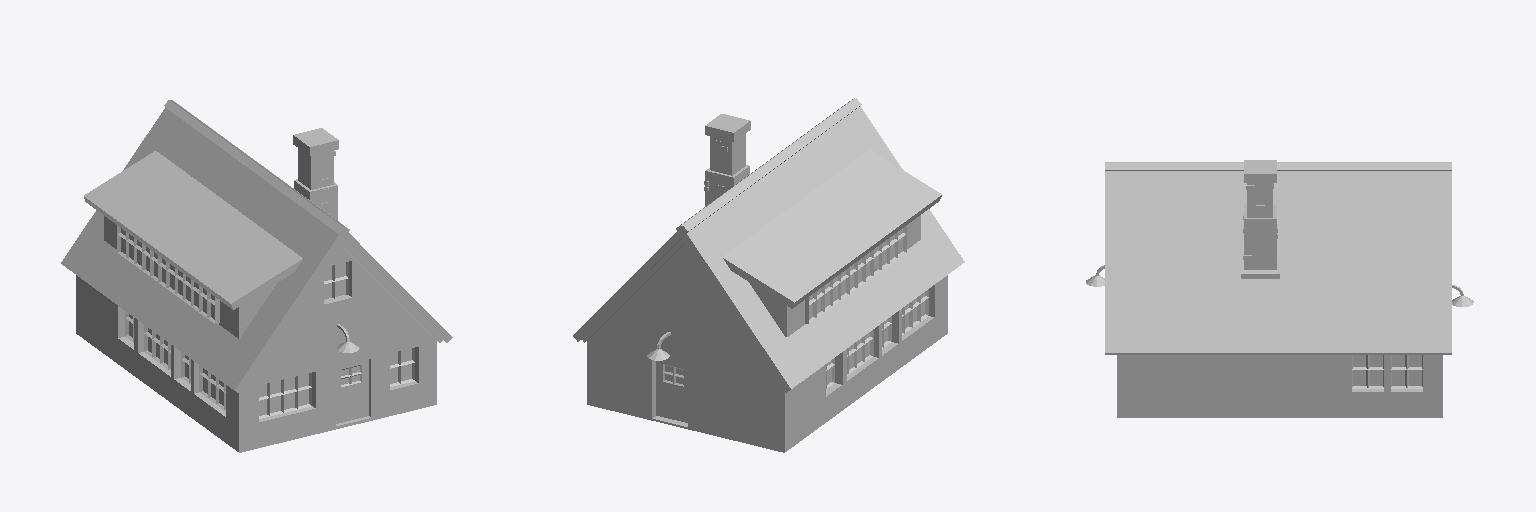
File: BigCabin.obj
The picture shows the model from 3 angles: view 1: azimuth 30°, elevation 25°; view 2: azimuth 150°, elevation 25°; view 3: azimuth 270°, elevation 25°; orthographic projection.
Parts seen in each view (by area): view 1: Cabin; view 2: Cabin; view 3: Cabin.
Boxes of the visible parts, <box> form: Cabin: <box>61,100,452,452</box>; Cabin: <box>573,98,964,452</box>; Cabin: <box>1086,160,1473,417</box>.
Bounding box in the file's own units: 0.5452 × 0.5404 × 0.8374.